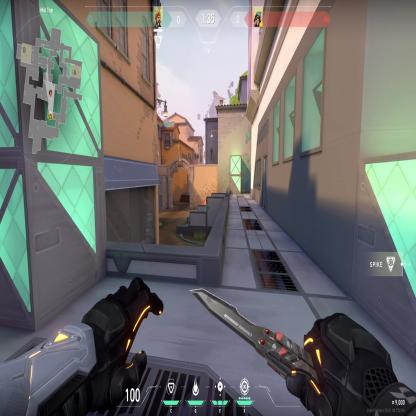enemy: (202, 197, 206, 205)
